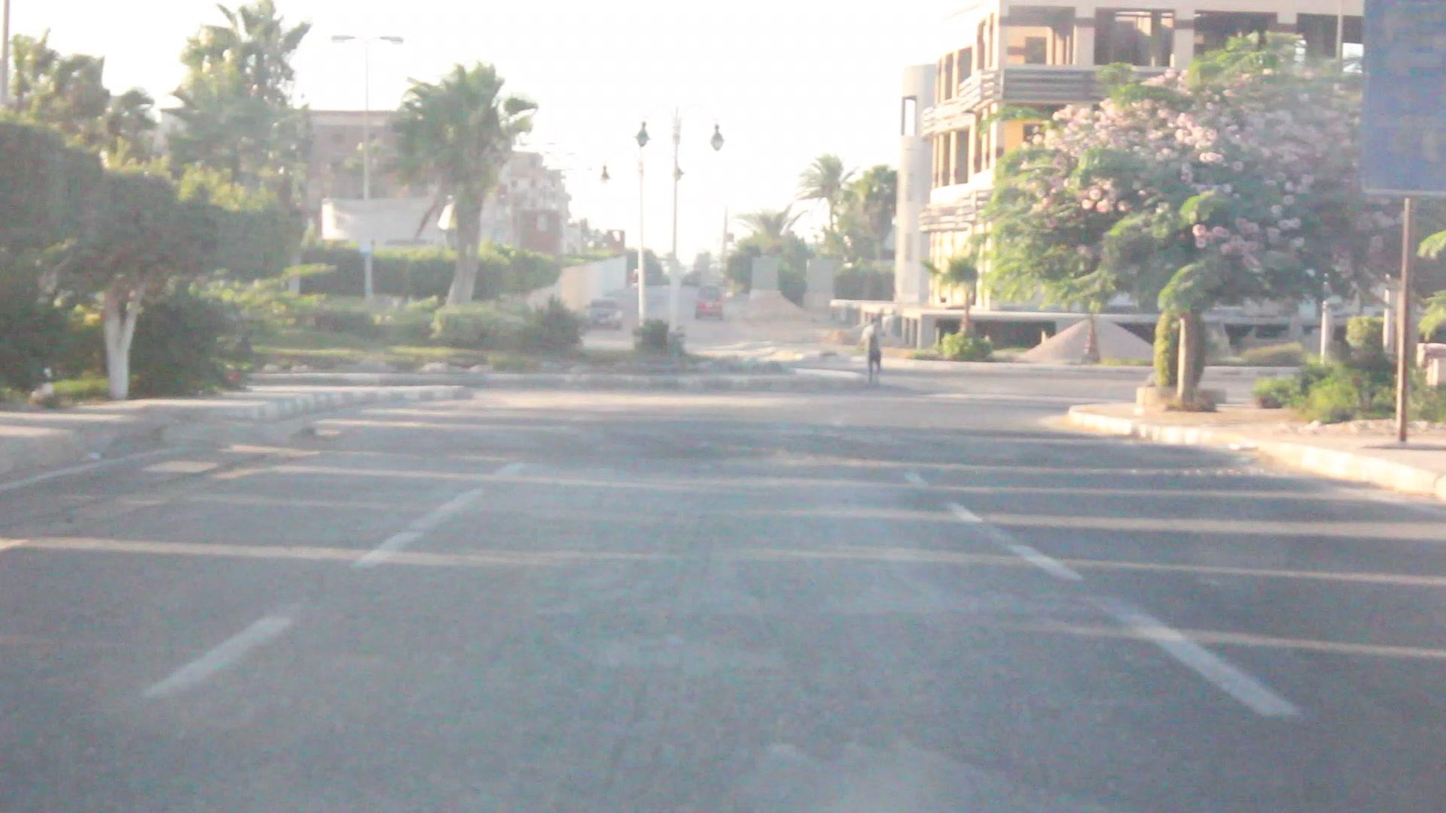Bump: (209, 422, 1273, 467)
